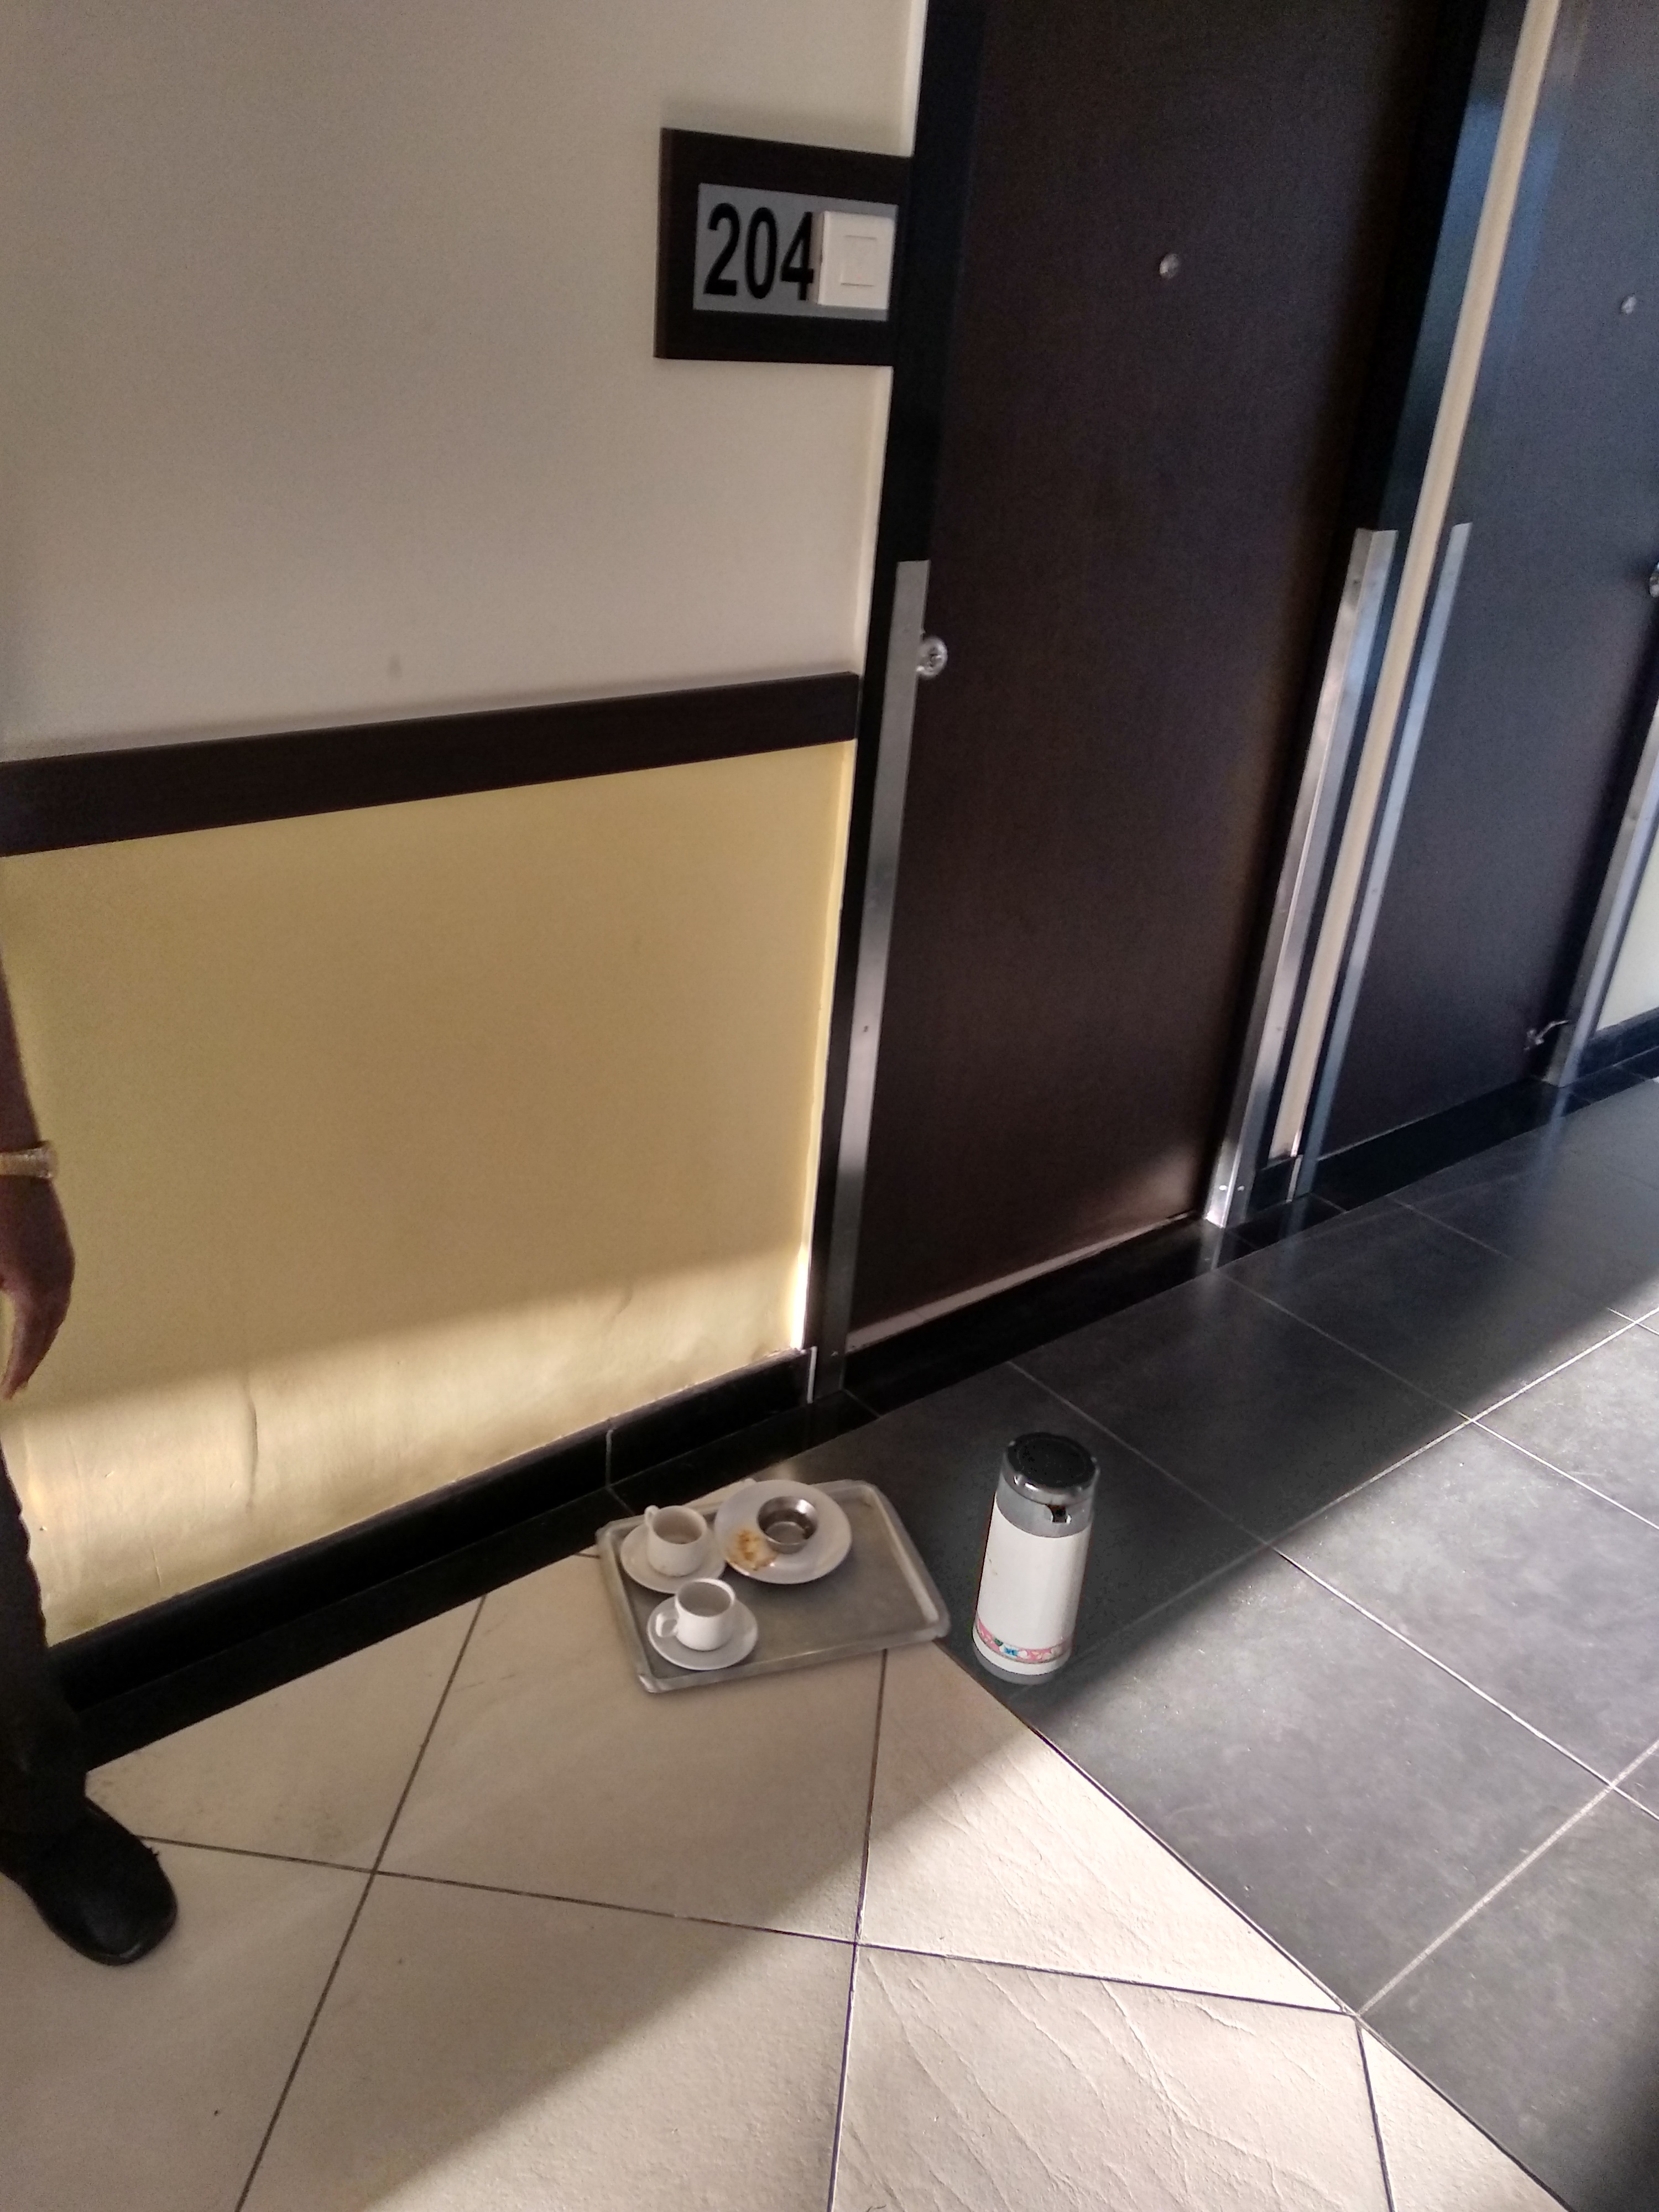CUP: (655, 1576, 741, 1655), (641, 1501, 709, 1575), (756, 1496, 823, 1550)
JUG: (979, 1426, 1098, 1689)
